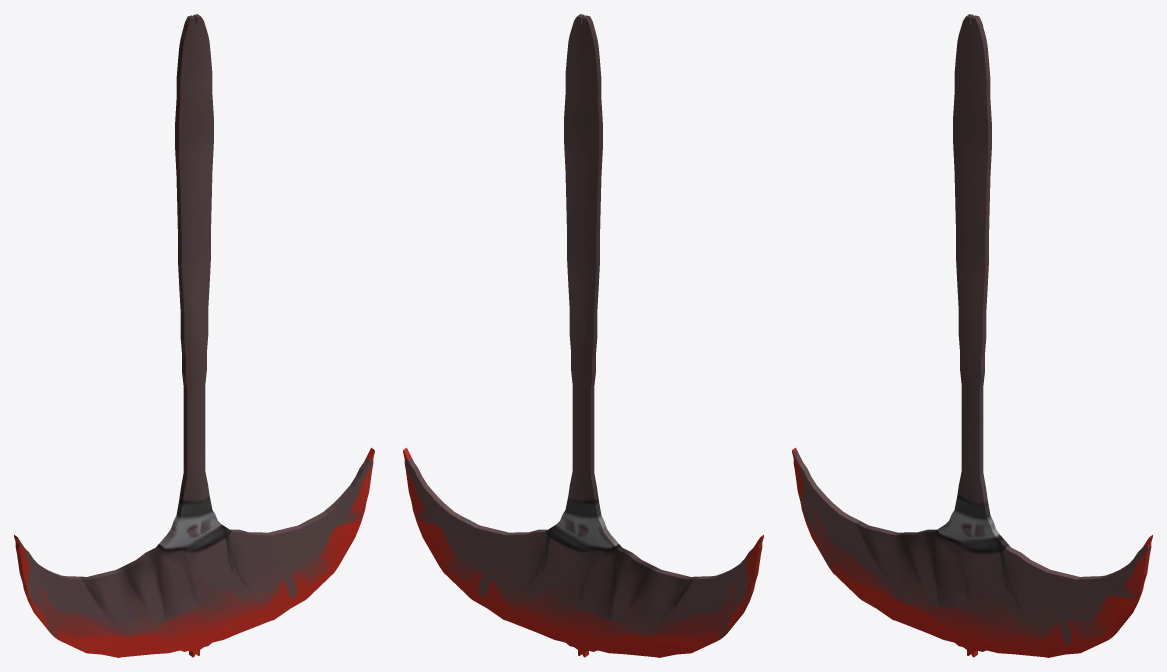
Rendered from Axe.glb.
The picture shows the model from 3 angles, left to right: view 1: azimuth 30°, elevation 25°; view 2: azimuth 150°, elevation 25°; view 3: azimuth 330°, elevation 25°; orthographic projection.
Visible parts, largest first — view 1: Axe; view 2: Axe; view 3: Axe.
Boxes of the visible parts, bbox=[...] form: Axe: bbox=[14, 14, 374, 657]; Axe: bbox=[403, 14, 763, 657]; Axe: bbox=[792, 14, 1152, 657].
Size of the model in its own units: 280 by 479 by 5.
Materials: 1 (1 with a texture image).
